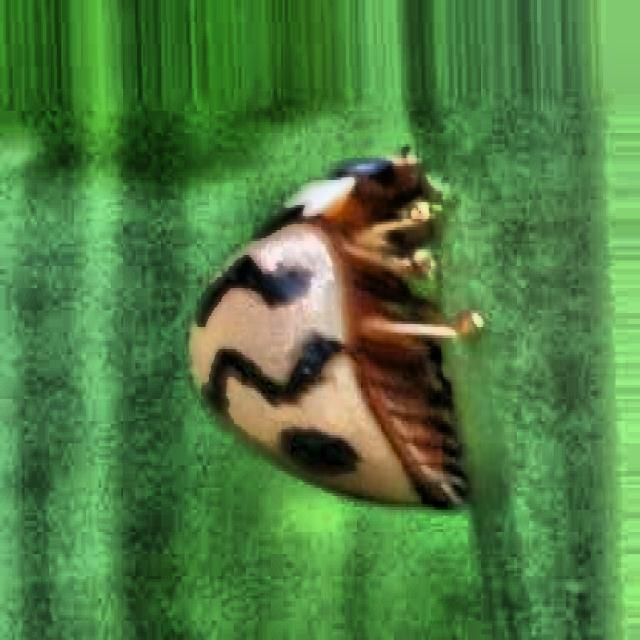Asian-Lady-beetle: (139, 116, 556, 640)
